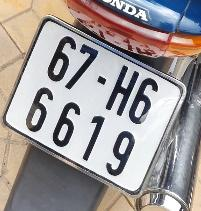1: (75, 109, 111, 164)
6: (125, 75, 164, 131), (49, 95, 87, 152), (21, 81, 58, 137), (44, 32, 80, 85)
7: (62, 41, 104, 96)
9: (102, 124, 142, 182)
H: (103, 58, 144, 119)
